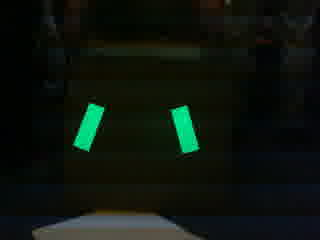target: (67, 99, 203, 155)
